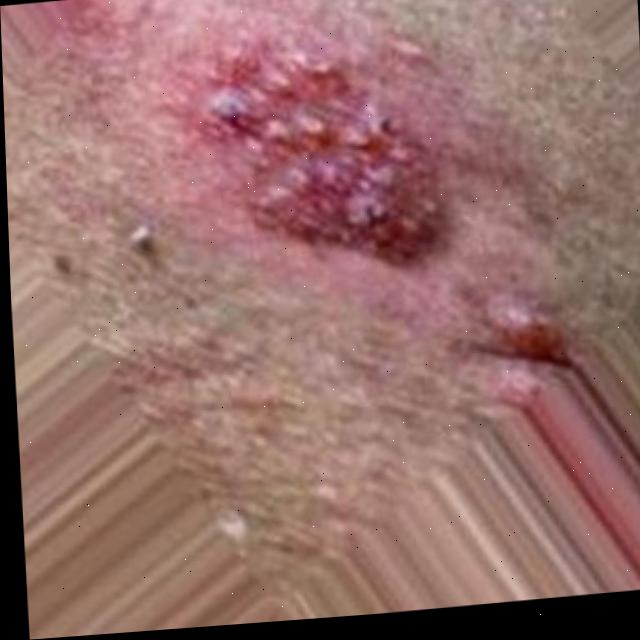Shingles: (200, 23, 440, 276)
